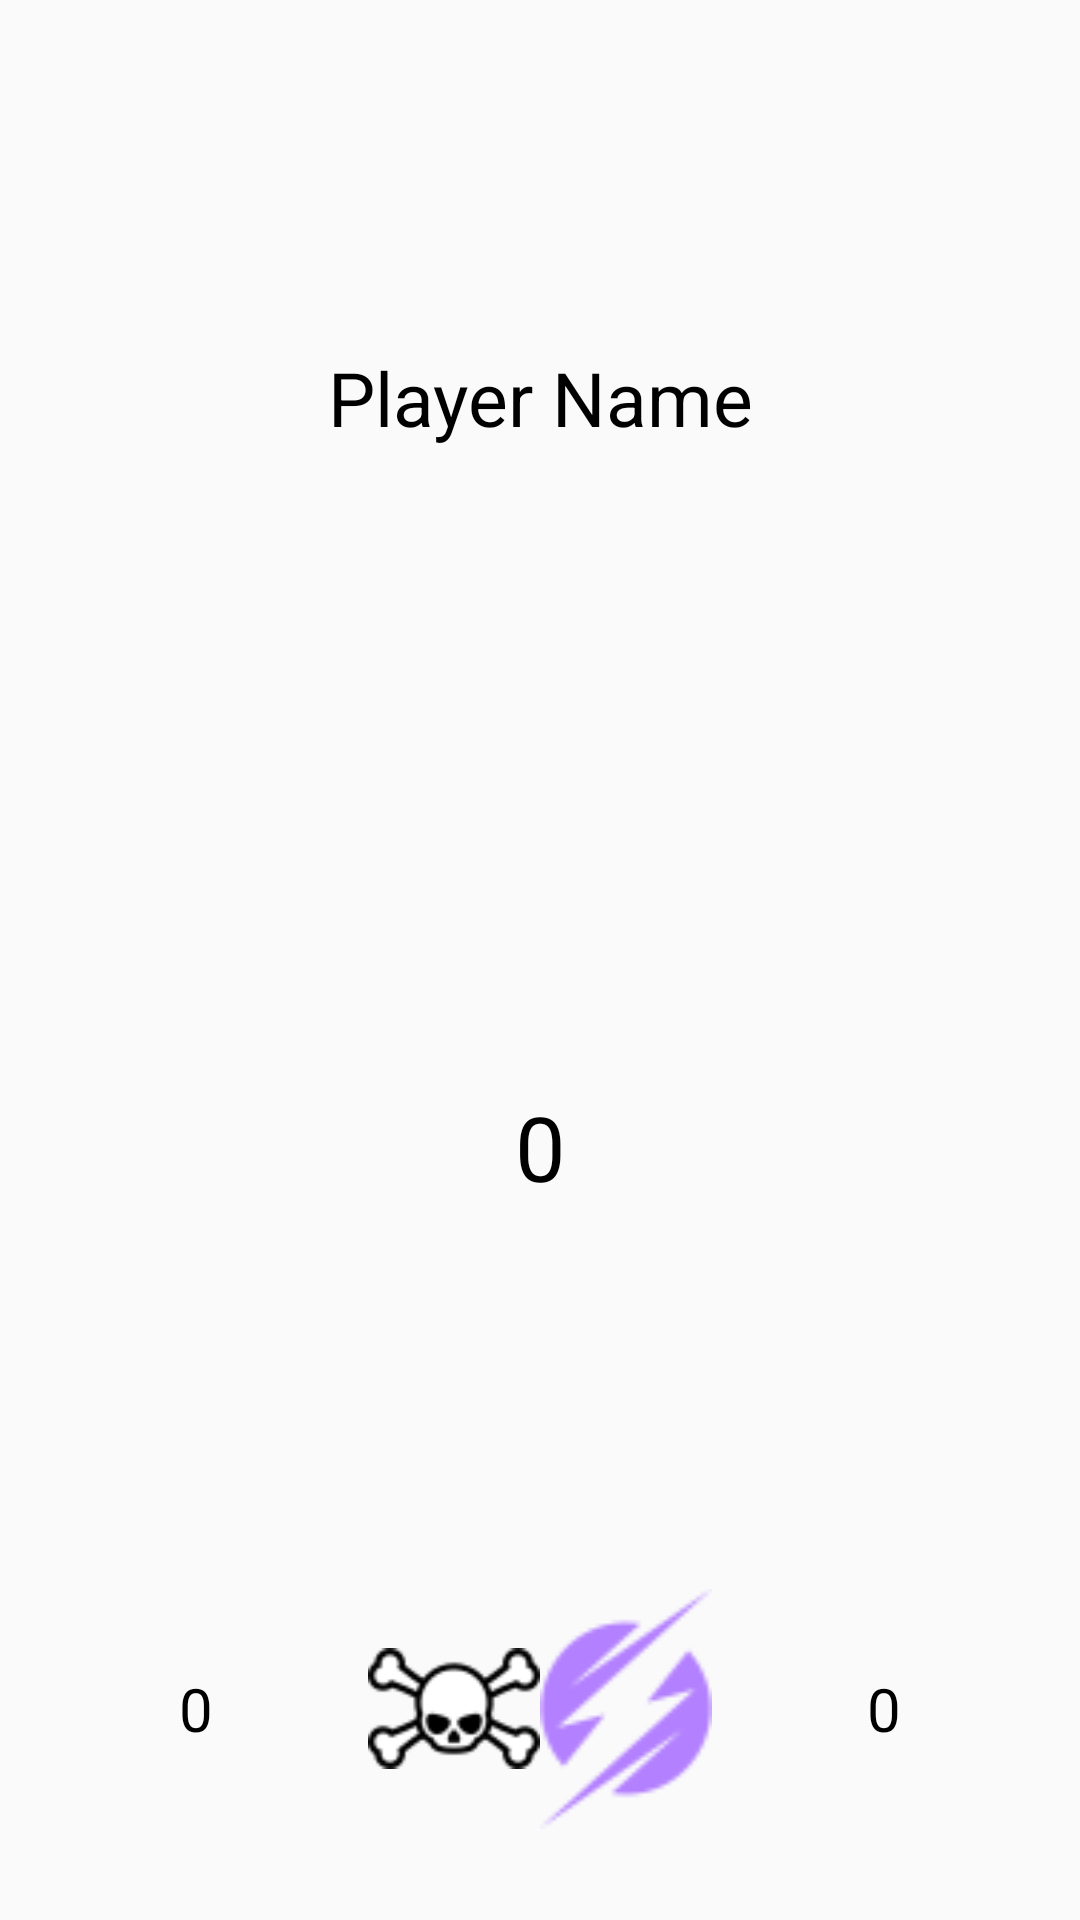

Named icons in this screenshot (1080 × 1920) and their centers, [x,y]:
counter energy: [626,1708]
counter poison: [454,1708]
